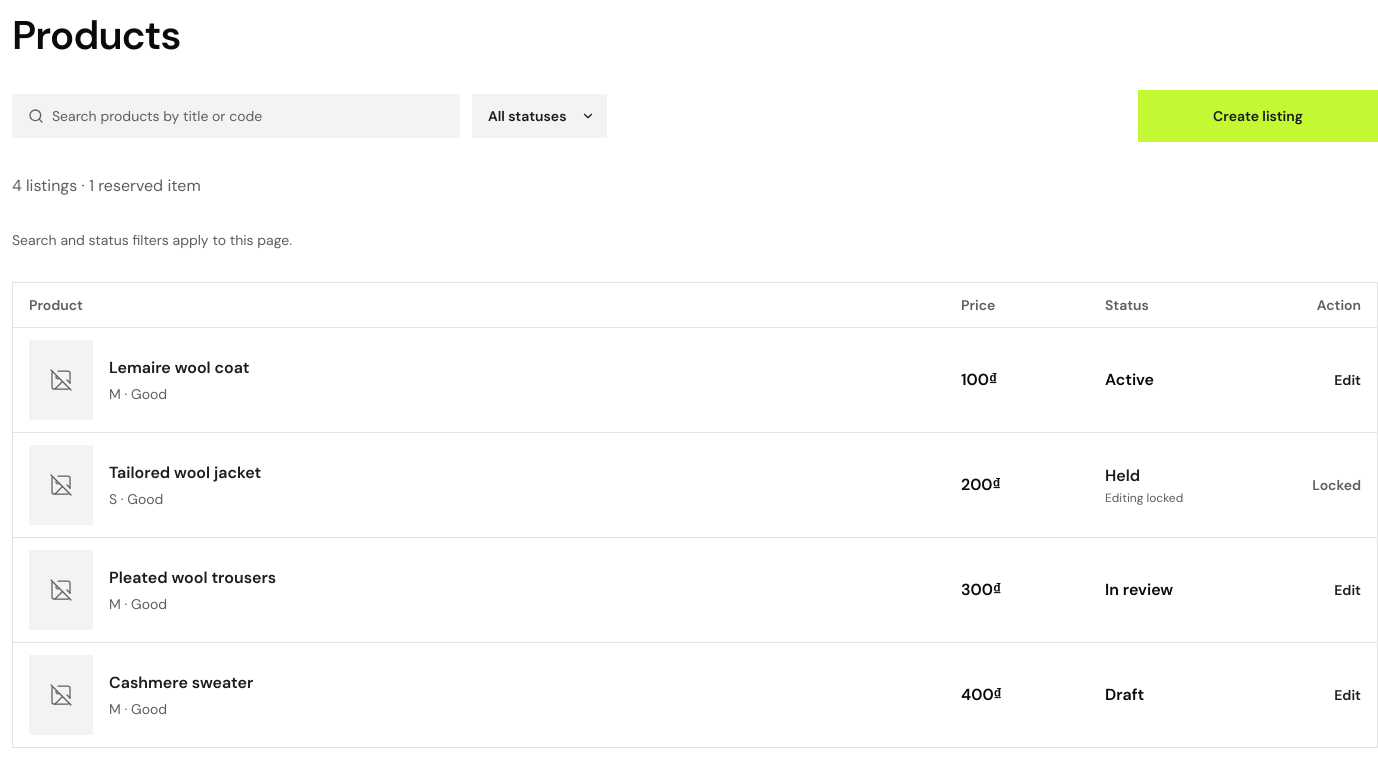
SellerProductsPage › filters products correctly by search keyword
In the field with placeholder "Search products by title or code": (248,116) [52,106,444,126], type "Cashmere"
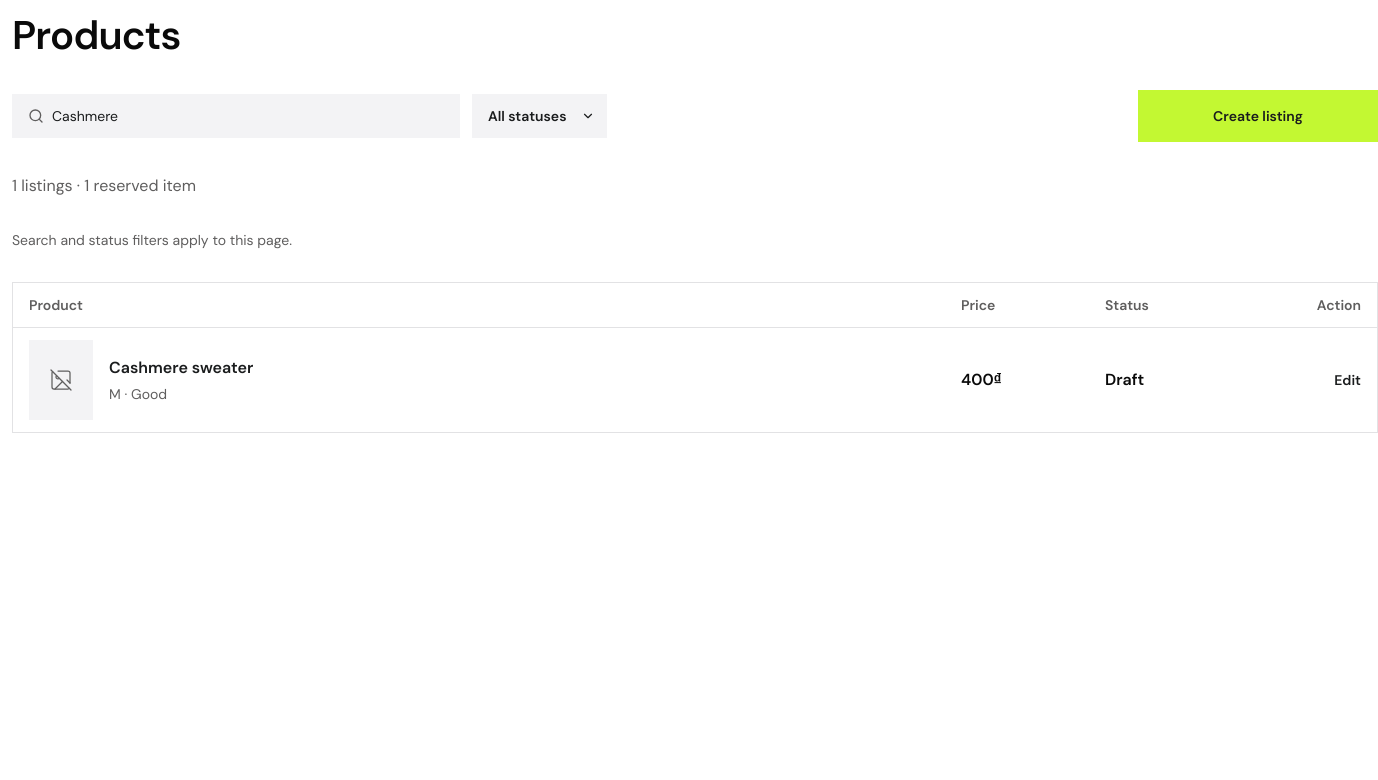
Expected: the text "Cashmere sweater" is shown, [109,356,253,380]
Expected: the text "Lemaire wool coat" is gone
